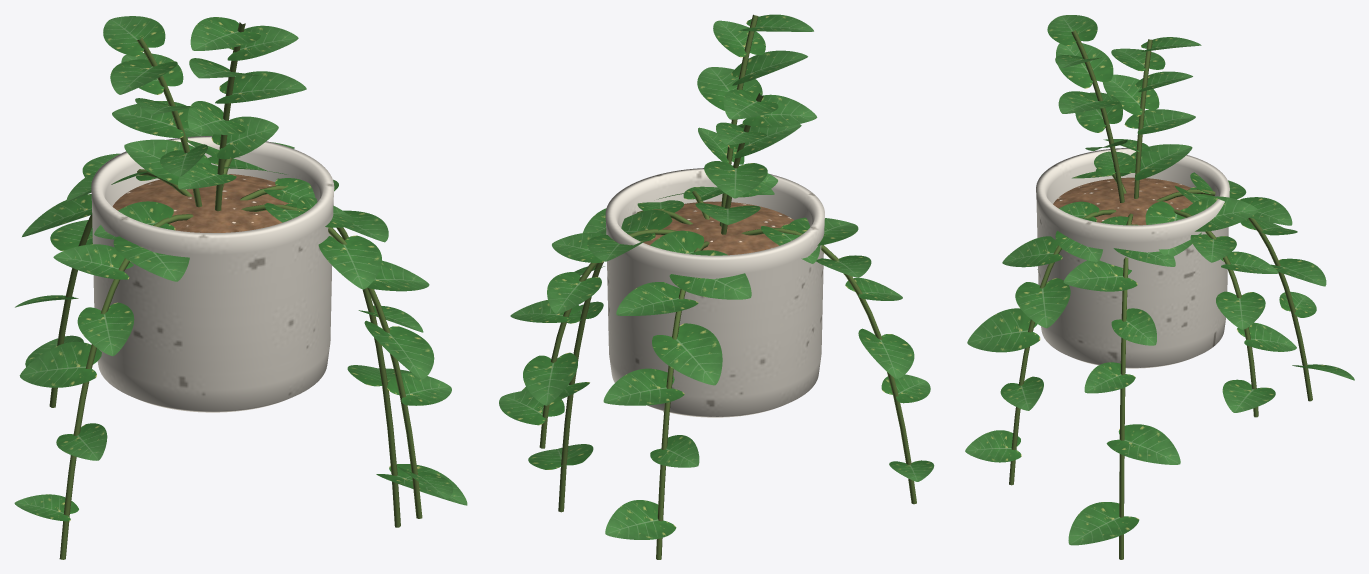
The model's file is ivy.glb.
3 renders of one model, left to right at view 1: azimuth 30°, elevation 25°; view 2: azimuth 150°, elevation 25°; view 3: azimuth 270°, elevation 25°, orthographic. The views are drawn at different scales.
Visible parts, largest first — view 1: piece-0, piece-51, piece-1, piece-34, piece-46, piece-33, piece-48, piece-29, piece-40, piece-32, piece-43, piece-25 (+24 smaller); view 2: piece-0, piece-51, piece-1, piece-19, piece-20, piece-22, piece-14, piece-18, piece-17, piece-34, piece-25, piece-12 (+24 smaller); view 3: piece-0, piece-51, piece-1, piece-48, piece-8, piece-7, piece-47, piece-4, piece-41, piece-10, piece-13, piece-50 (+25 smaller).
Part boxes in pixels (x1,y1,x2,y2): piece-0: (91, 136, 334, 412); piece-51: (49, 22, 422, 559); piece-1: (112, 173, 288, 232); piece-34: (19, 341, 101, 387); piece-46: (318, 235, 381, 289); piece-33: (77, 302, 134, 356); piece-48: (364, 320, 434, 379); piece-29: (103, 16, 165, 56); piece-40: (215, 71, 306, 103); piece-32: (53, 244, 133, 279); piece-43: (190, 17, 260, 50); piece-25: (112, 101, 189, 138); piece-0: (605, 168, 824, 417); piece-51: (539, 14, 916, 559); piece-1: (643, 201, 793, 255); piece-19: (652, 323, 722, 385); piece-20: (603, 368, 684, 405); piece-22: (605, 500, 676, 539); piece-14: (523, 352, 577, 405); piece-18: (616, 282, 698, 315); piece-17: (669, 250, 751, 299); piece-34: (858, 328, 914, 378); piece-25: (704, 161, 767, 198); piece-12: (547, 272, 601, 314); piece-0: (1036, 148, 1229, 368); piece-51: (1009, 30, 1312, 559); piece-1: (1053, 177, 1192, 225); piece-48: (967, 308, 1040, 352); piece-8: (1068, 502, 1139, 545); piece-7: (1106, 424, 1180, 464); piece-47: (1015, 278, 1070, 328); piece-4: (1063, 260, 1137, 291); piece-41: (1056, 42, 1113, 88); piece-10: (1184, 196, 1258, 231); piece-13: (1216, 291, 1265, 329); piece-50: (965, 430, 1021, 462).
Size of the model in its own units: 0.3372 by 0.419 by 0.3237.
4 materials, 3 textured.
